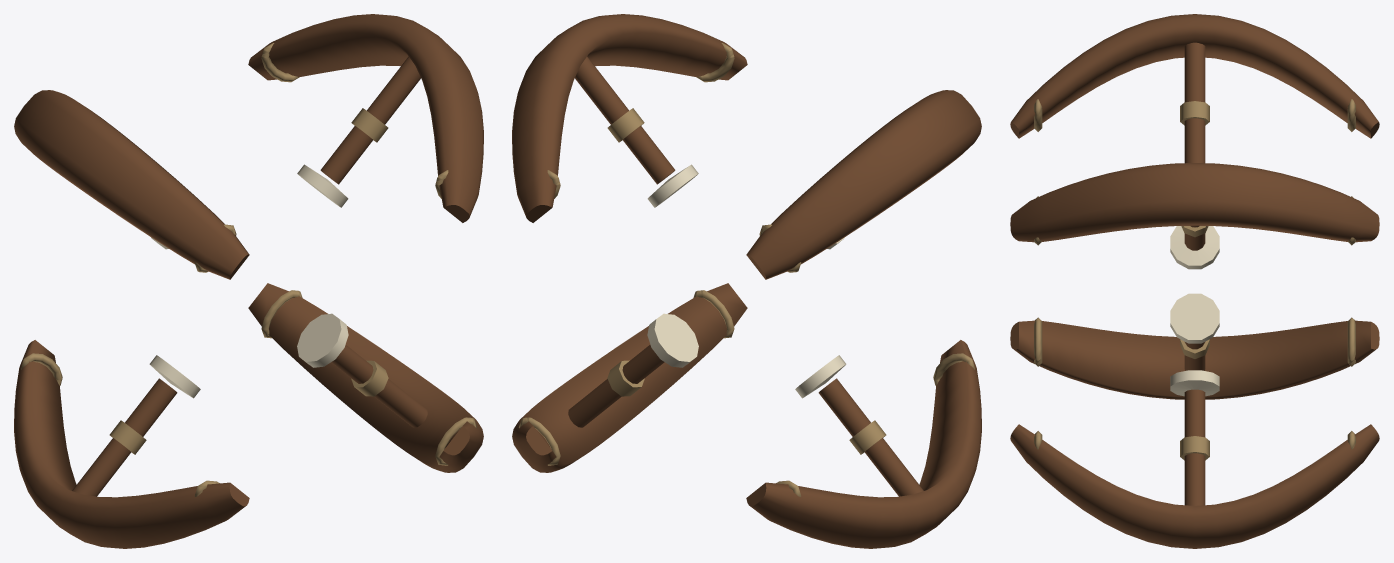
The model's file is k5_dampers.obj.
3 views of the same model, side by side, from view 1: azimuth 30°, elevation 25°; view 2: azimuth 150°, elevation 25°; view 3: azimuth 270°, elevation 25° (orthographic). The views are drawn at different scales.
Parts seen in each view (by area): view 1: k5_dampers; view 2: k5_dampers; view 3: k5_dampers.
Part boxes in pixels (left/top/right/bottom): k5_dampers: left=14, top=14, right=483, bottom=548; k5_dampers: left=512, top=14, right=981, bottom=548; k5_dampers: left=1010, top=14, right=1379, bottom=548.
Size of the model in its own units: 2.51 by 2.51 by 2.19.
